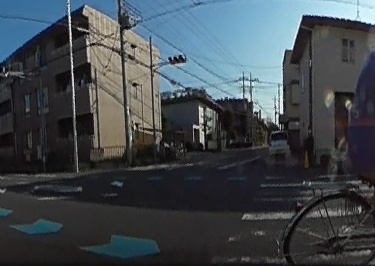person: (356, 12, 375, 256)
